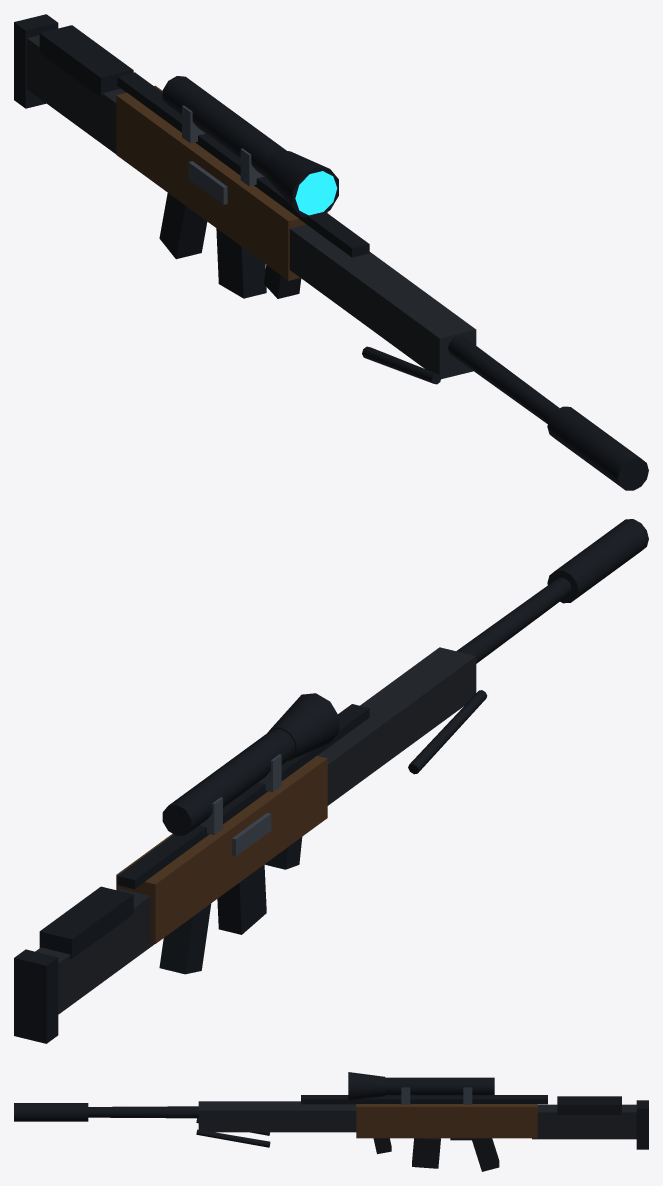
File: kar98.glb
The picture shows the model from 3 angles, top to bottom: view 1: azimuth 30°, elevation 25°; view 2: azimuth 150°, elevation 25°; view 3: azimuth 270°, elevation 25°; orthographic projection. The views are drawn at different scales.
Parts seen in each view (by area): view 1: Weapon_kar98; view 2: Weapon_kar98; view 3: Weapon_kar98.
Part boxes in pixels (box(x1,y1,x2,y2)): Weapon_kar98: box(14, 14, 648, 490); Weapon_kar98: box(14, 519, 648, 1043); Weapon_kar98: box(14, 1072, 648, 1171).
Size of the model in its own units: 0.084 by 0.2559 by 1.54.
